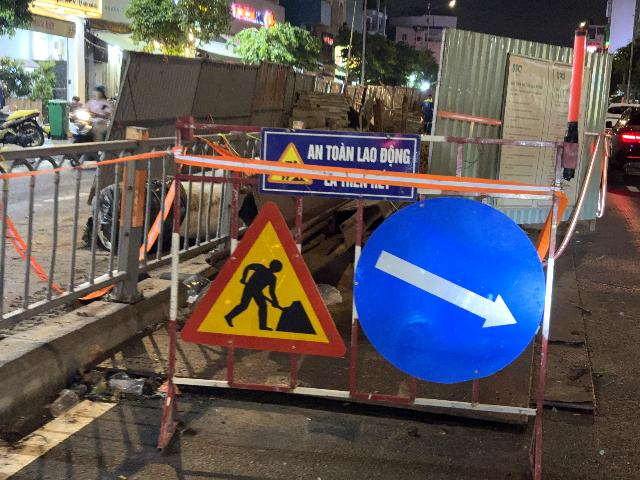cong-truong-dang-thi-cong: (180, 202, 346, 358)
huong-phai-di-vong-chuong-ngai-vat: (354, 194, 548, 386)
